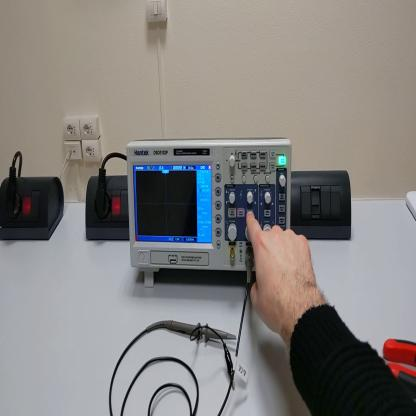hand: (245, 210, 319, 340)
oscilloscope: (128, 136, 293, 288)
oscilloscope probe tip: (165, 318, 239, 346)
pliers: (383, 339, 416, 400)
socket: (2, 177, 67, 241), (85, 177, 130, 243)
